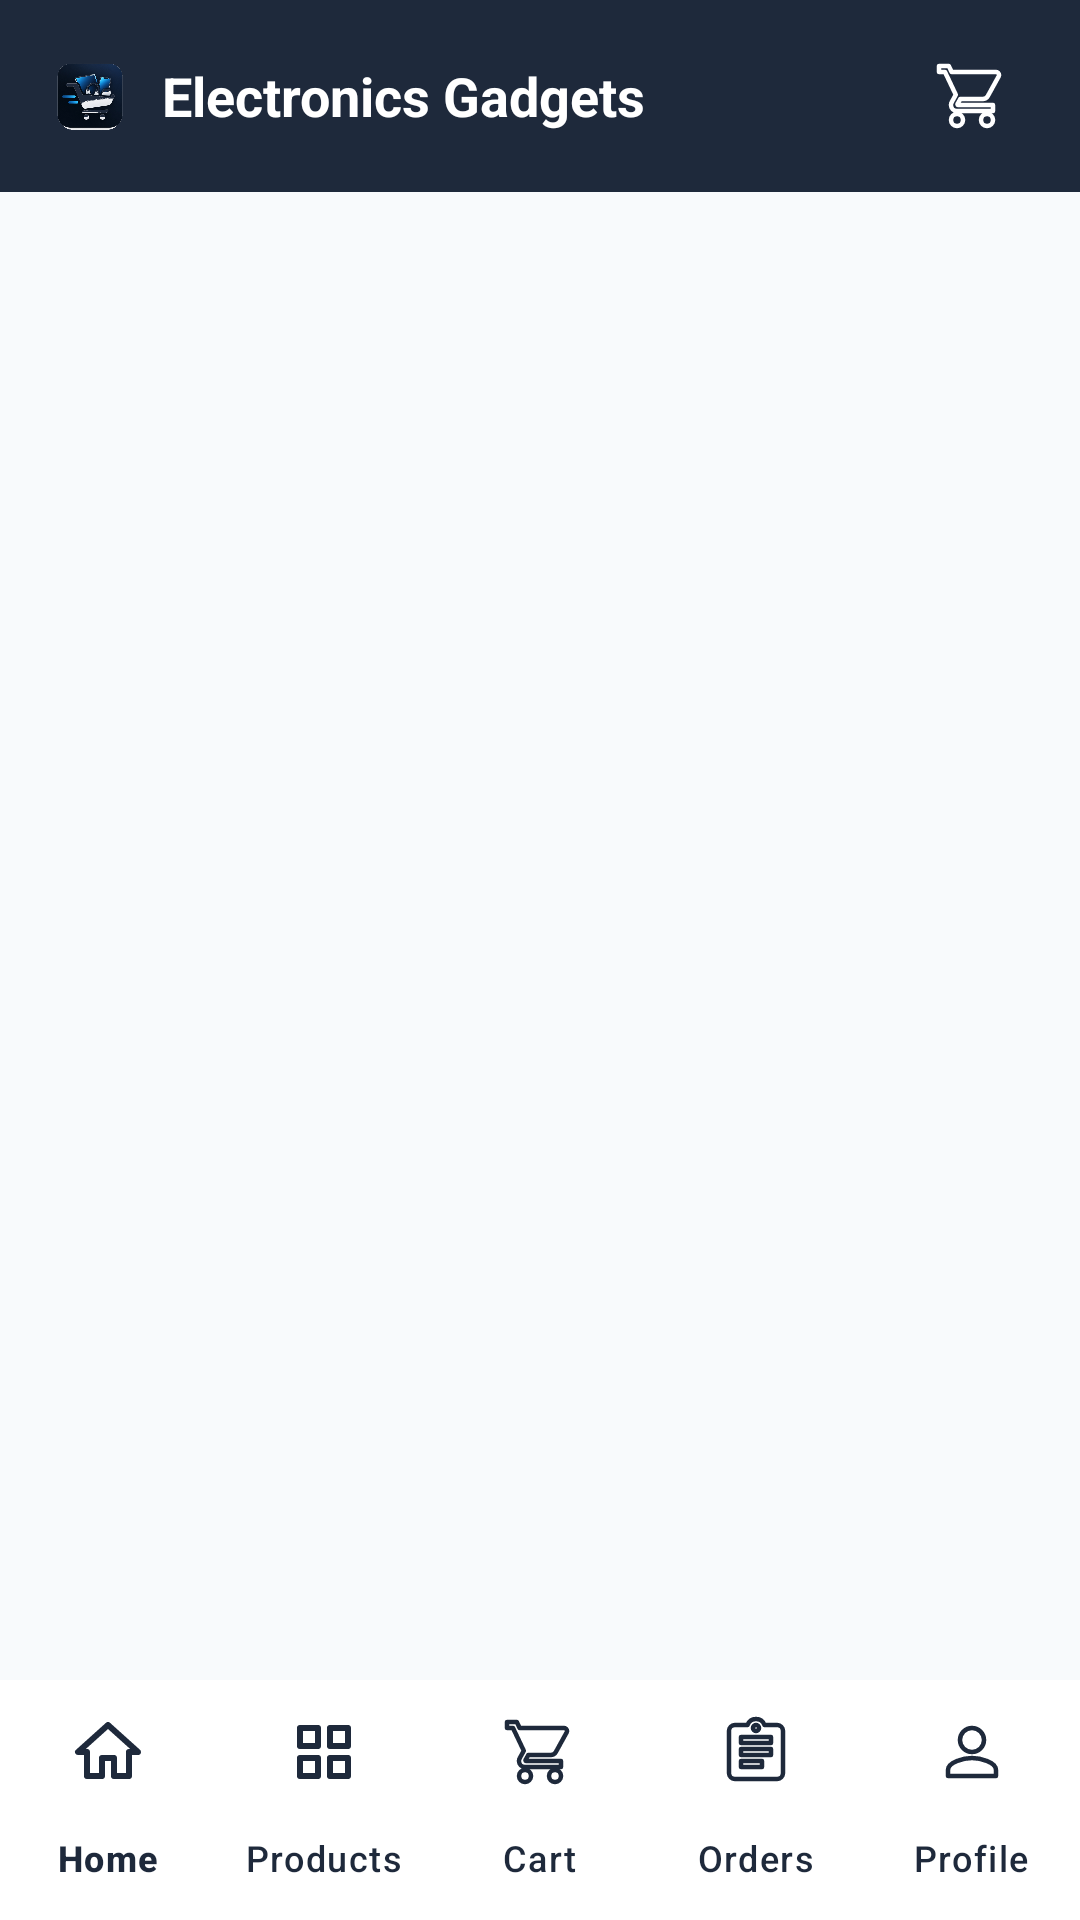

Where icons sit on this 1080w x 1920h app screen, as bbox=(x1, y1, x2, y2):
cart: bbox=(936, 63, 1002, 129)
